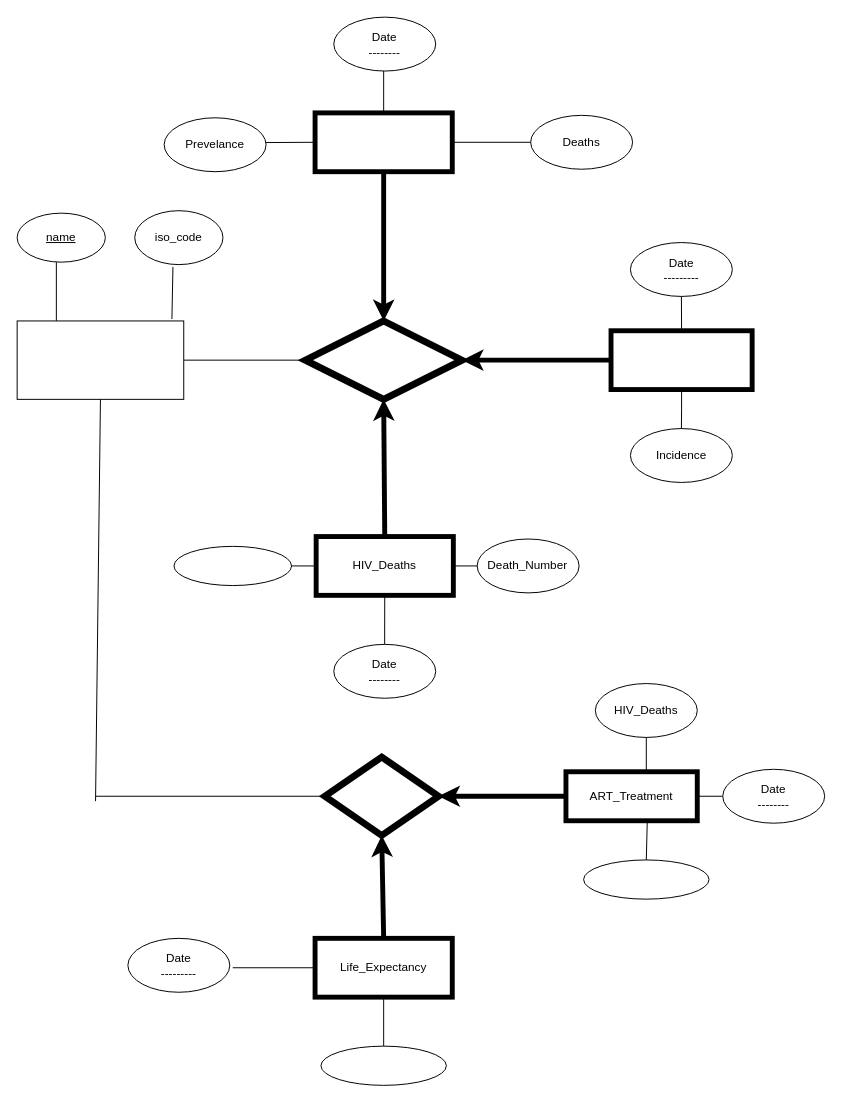
Image size: 842x1103. Some labels were removed from this diagram. Here are the shapes that lost their labels. From the top down, the centre of each, then its label:
At (x=383, y=142): "HIV_Prevelance".
At (x=100, y=359): "Countries".
At (x=383, y=359): "Report".
At (x=681, y=360): "HIV_Incidence".
At (x=232, y=565): "Death_Age_Group".
At (x=381, y=795): "Announce".
At (x=646, y=879): "HIV_DeathsAverted".
At (x=383, y=1065): "Longevity".
